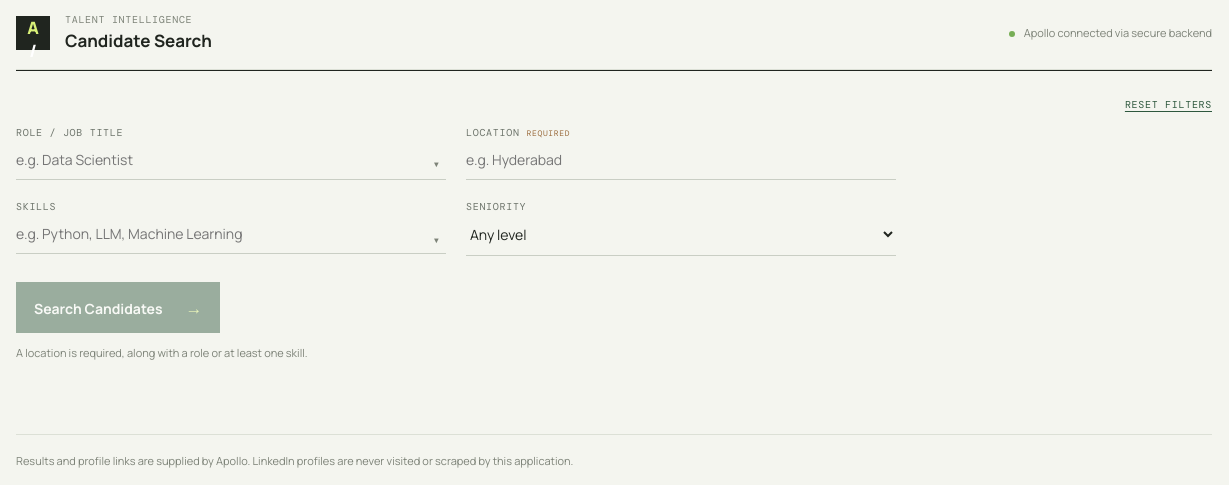
Test: searching needs a location and either a role or a skill
The width and height of the screenshot is (1229, 485).
Check: the button "Search Candidates →" is disabled, box [16,282,220,333]
Check: the text "A location is required, along with a role or at least one skill" is shown, box [16,345,308,360]
# A role on its own is not enough without somewhere to look.
Type "java developer" into the dropdown labelled "Role / Job Title ▾" at (231, 160), box [16,139,446,180]
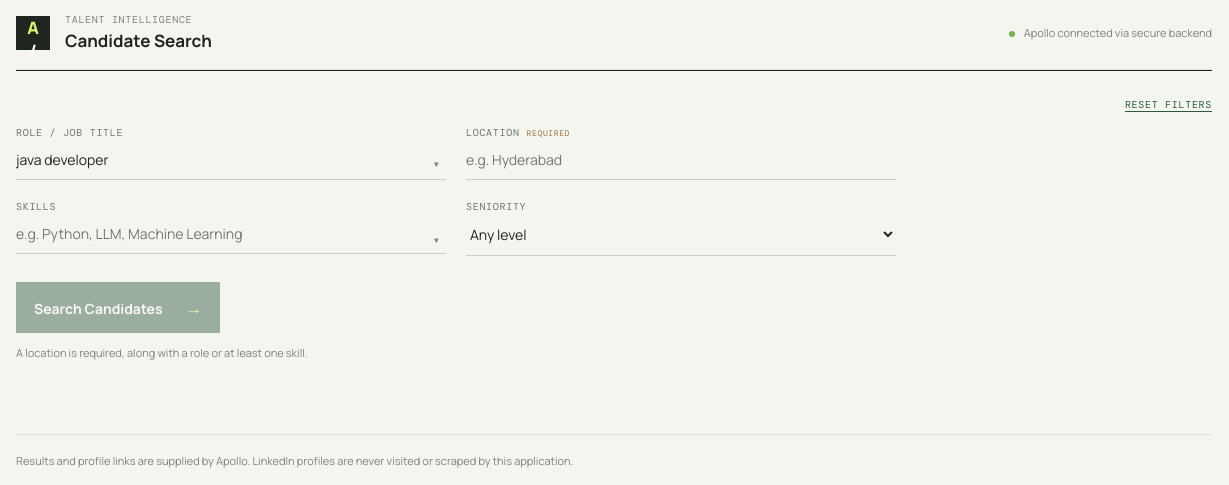
Check: the button "Search Candidates →" is disabled, box [16,282,220,333]
Type "delhi" into the field labelled "Location Required" at (681, 160), box [466,139,896,180]
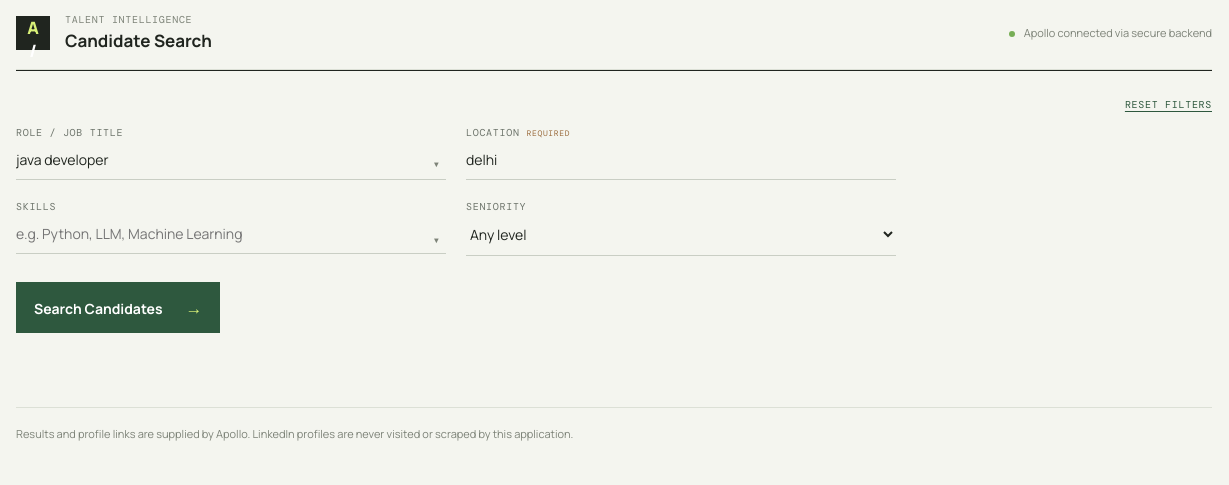
Check: the button "Search Candidates →" is enabled, box [16,282,220,333]
# And so is a skill plus location, with no role at all.
Clear the dropdown labelled "Role / Job Title ▾" at (231, 160), box [16,139,446,180]
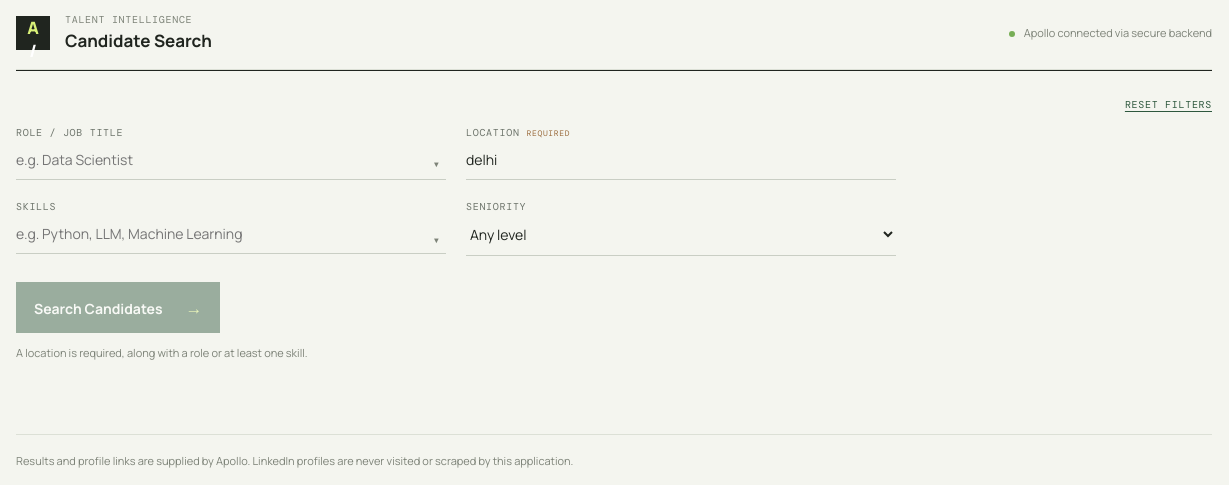
Check: the button "Search Candidates →" is disabled, box [16,282,220,333]
Type "java" into the dropdown labelled "Skills ▾" at (231, 234), box [16,213,446,254]
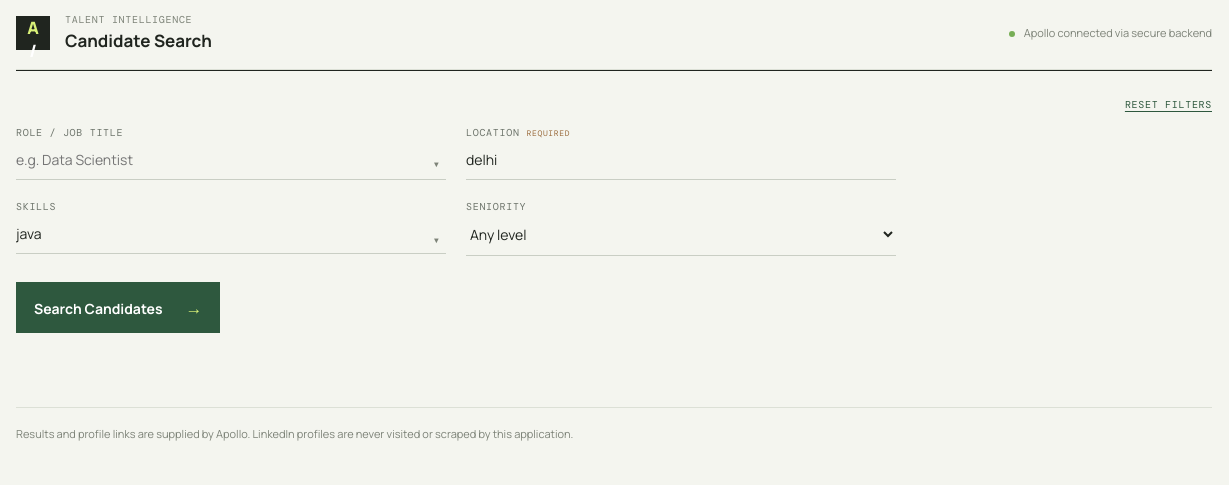
Check: the button "Search Candidates →" is enabled, box [16,282,220,333]
